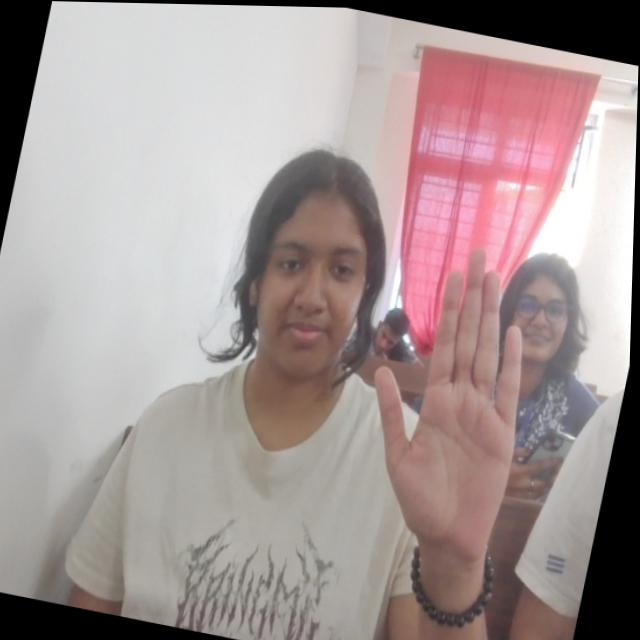hello: (342, 225, 563, 562)
